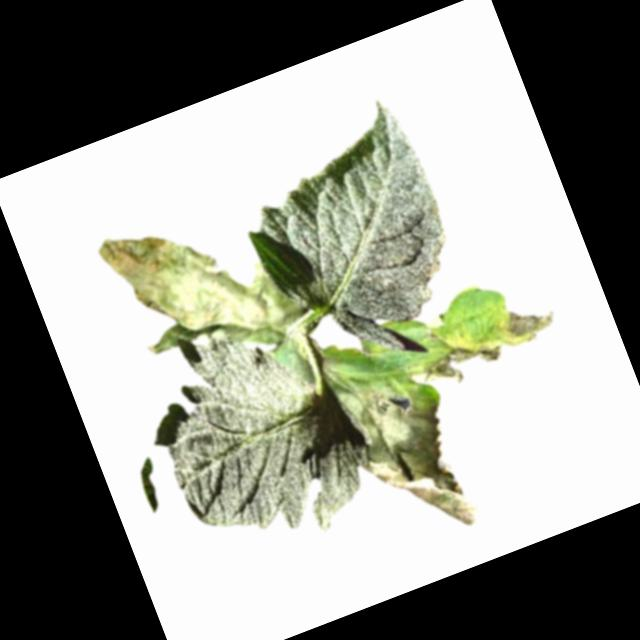Late_blight: (93, 179, 313, 390), (340, 363, 488, 554), (416, 326, 511, 394), (492, 294, 565, 353), (421, 310, 461, 351), (319, 350, 353, 383)
